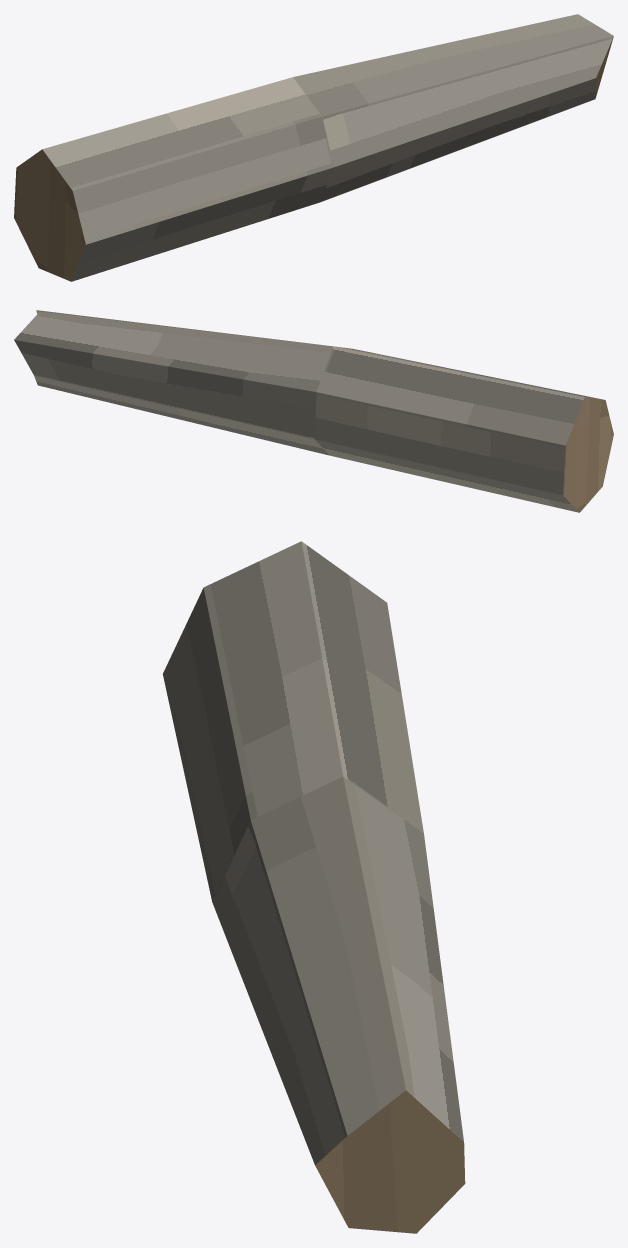
File: scatter-log.glb
3 views of the same model, one above another, from view 1: azimuth 30°, elevation 25°; view 2: azimuth 150°, elevation 25°; view 3: azimuth 270°, elevation 25° (orthographic). The views are drawn at different scales.
Visible parts, largest first — view 1: scatter-log; view 2: scatter-log; view 3: scatter-log.
Boxes of the visible parts, left/top/right/bottom form: scatter-log: left=14, top=14, right=613, bottom=281; scatter-log: left=14, top=310, right=613, bottom=512; scatter-log: left=163, top=541, right=465, bottom=1233.
Bounding box in the file's own units: 1.75 × 0.3495 × 0.4253.
2 materials, 2 textured.
